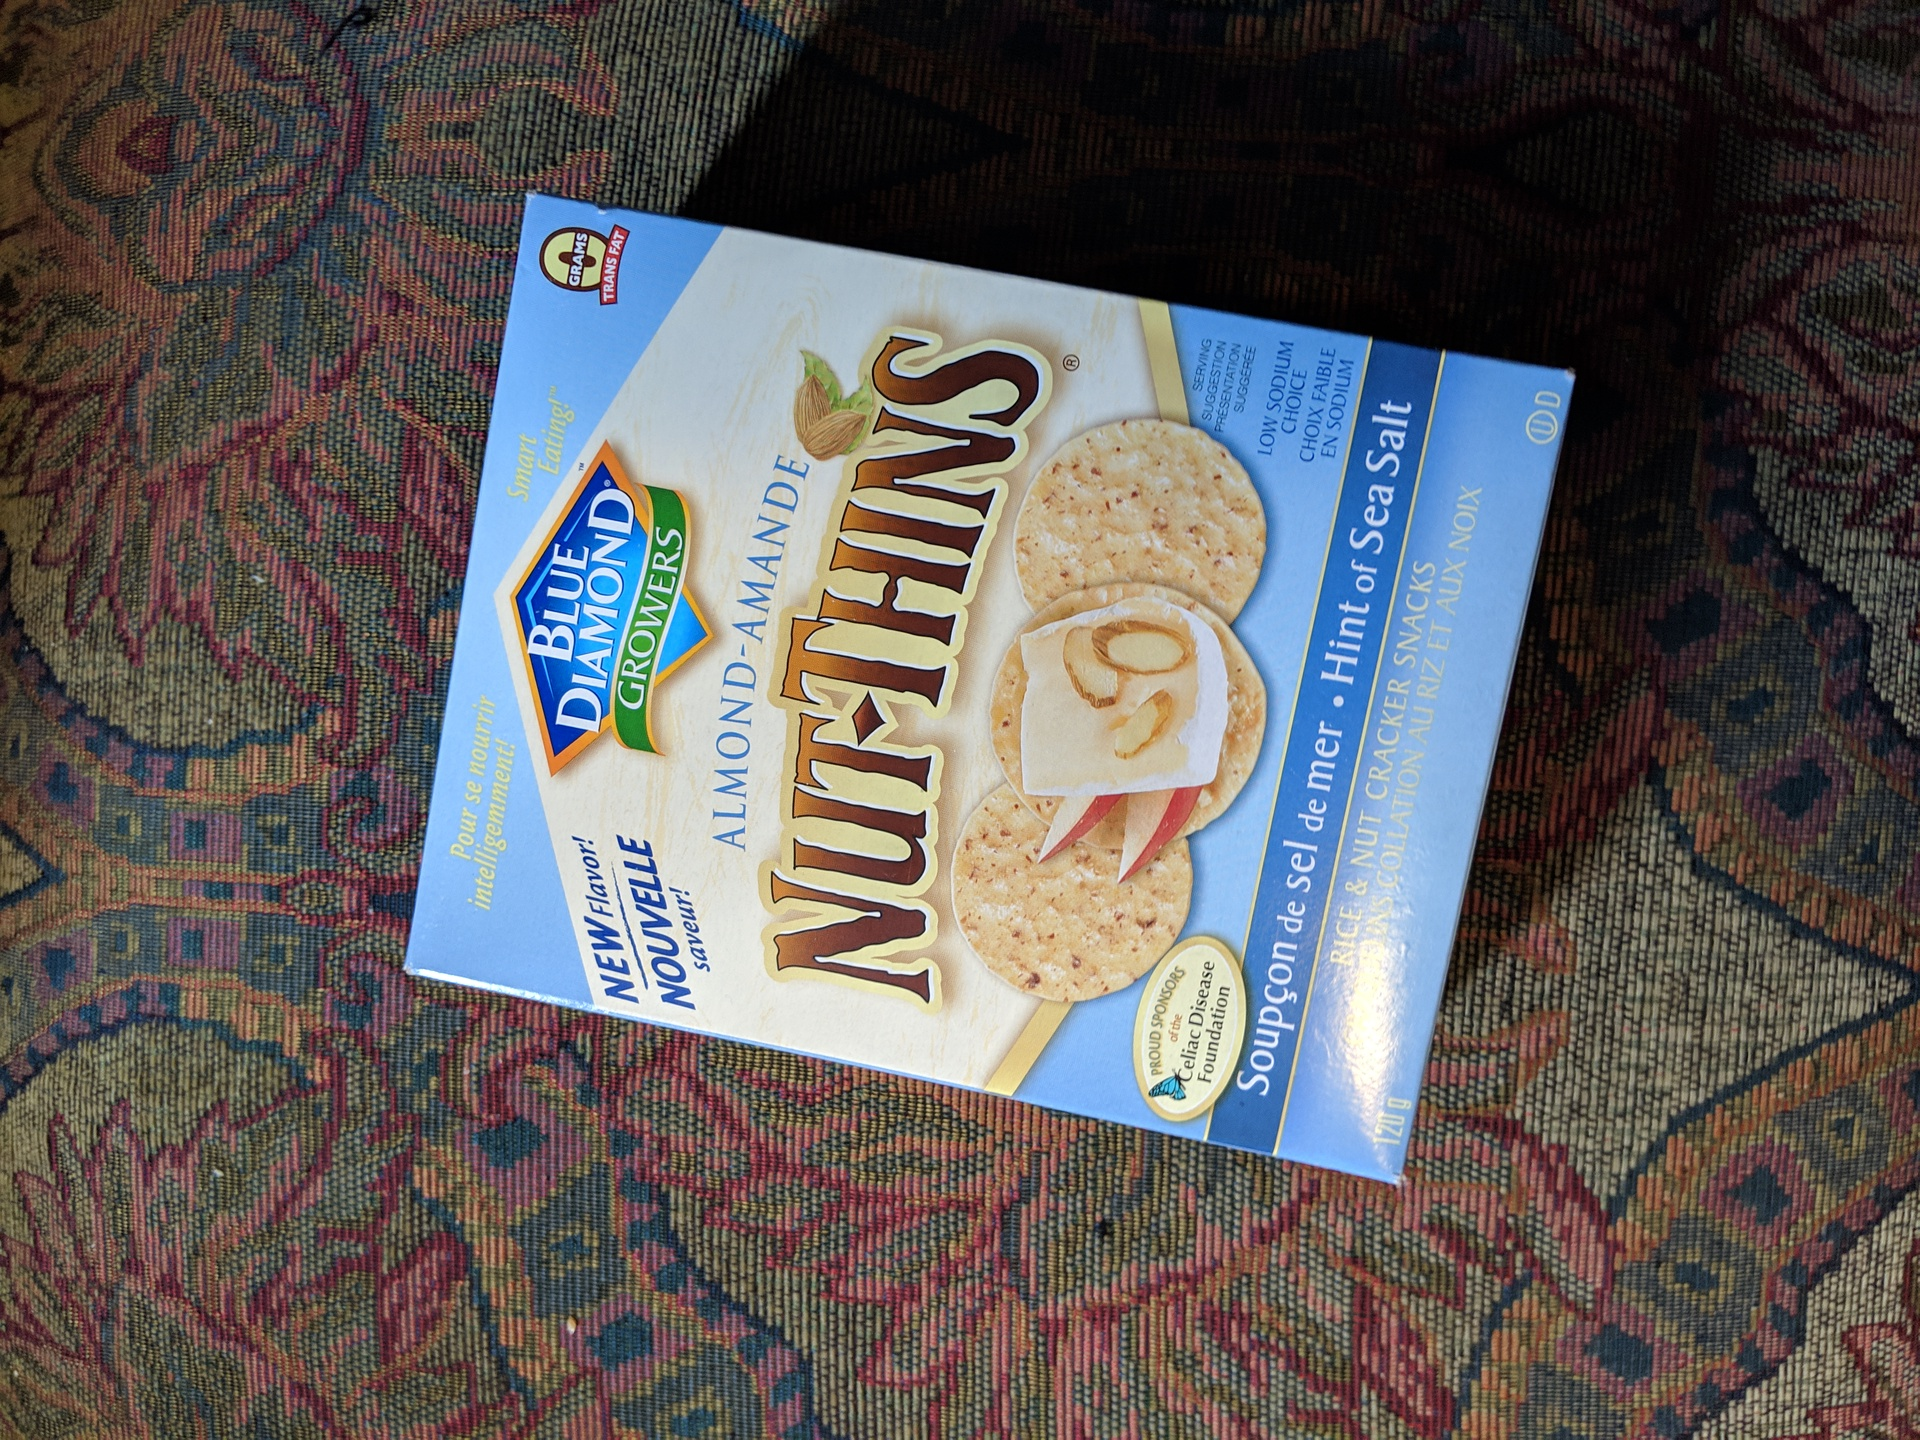blue_diamond_nut_thins_almond_seasalt: (458, 245, 1507, 1063)
